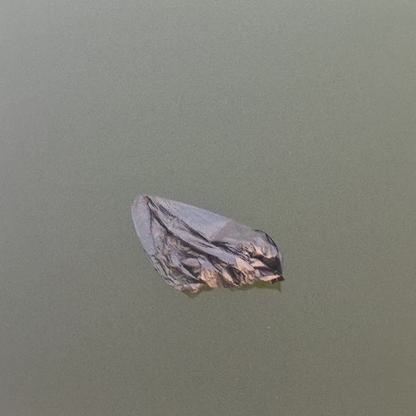plastic bag: (129, 192, 285, 296)
